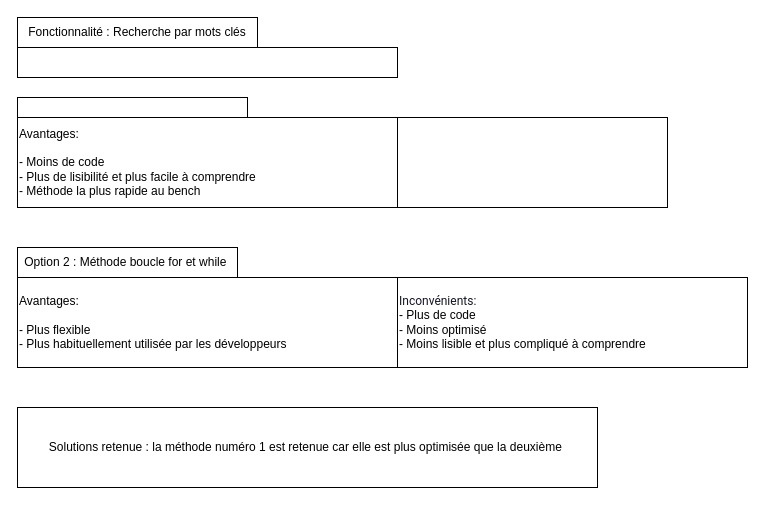
Some shapes in this 765 by 505 pixel diagram are drawn without their labels. The shapes that lost their labels are listed below. From the top down, each one's box as (x1, y1, x2, y2) in pixels, then its label:
(16, 46, 398, 78): Problématique: Offrir un mode de recherche optimisé et performant
(16, 96, 248, 118): Option 1 : méthode filter / map / foreach
(396, 116, 668, 208): inconvénients :
